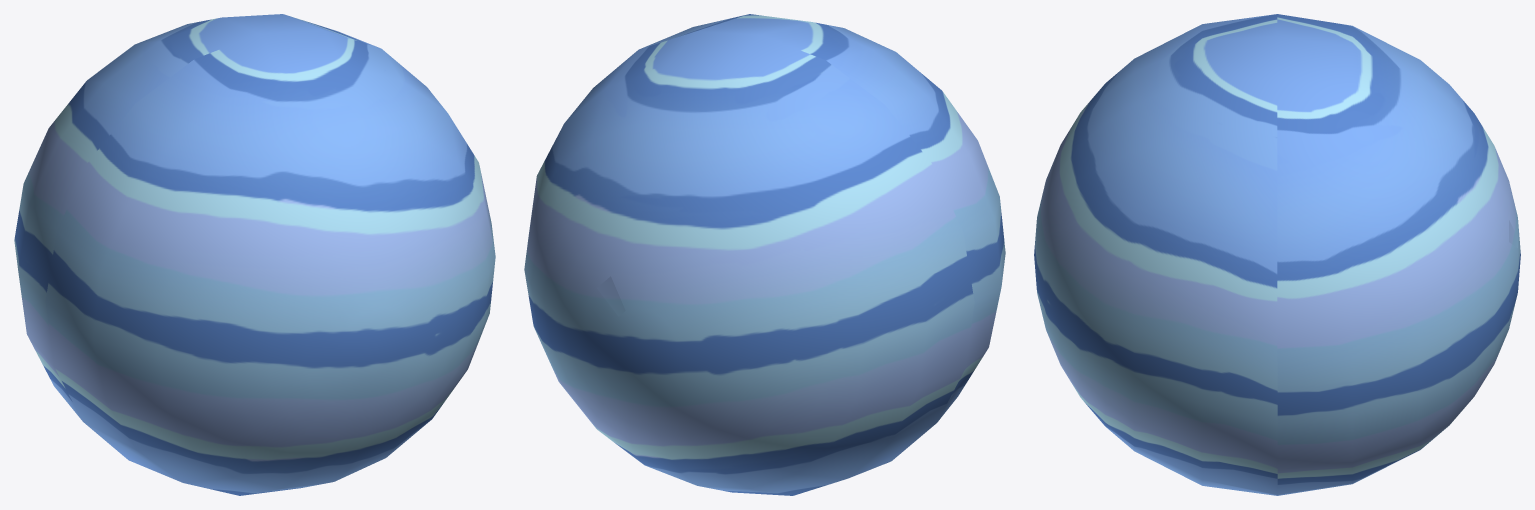
The model's file is Neptuno.glb.
The picture shows the model from 3 angles, left to right: view 1: azimuth 30°, elevation 25°; view 2: azimuth 150°, elevation 25°; view 3: azimuth 270°, elevation 25°; orthographic projection.
Visible parts, largest first — view 1: Planeta; view 2: Planeta; view 3: Planeta.
Part boxes in pixels (bbox=[...]): Planeta: bbox=[14, 14, 495, 495]; Planeta: bbox=[524, 14, 1005, 495]; Planeta: bbox=[1034, 14, 1520, 495].
Size of the model in its own units: 0.1129 by 0.1129 by 0.1129.
1 material, 1 textured.
